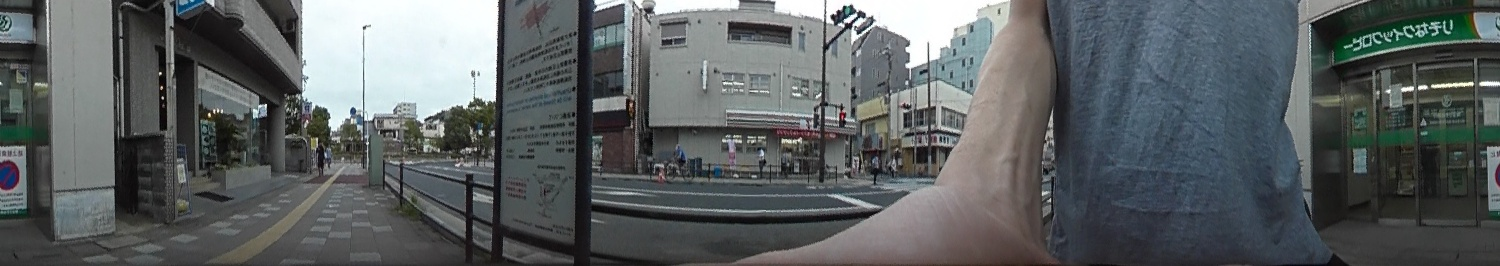difficult_person: (1419, 135, 1442, 198), (313, 140, 327, 177), (671, 142, 685, 174), (755, 146, 767, 178), (869, 151, 880, 182)
